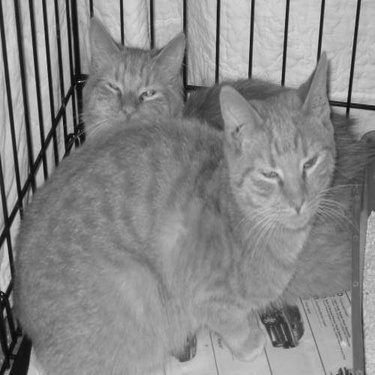cat: (1, 84, 337, 361), (20, 23, 210, 135)
